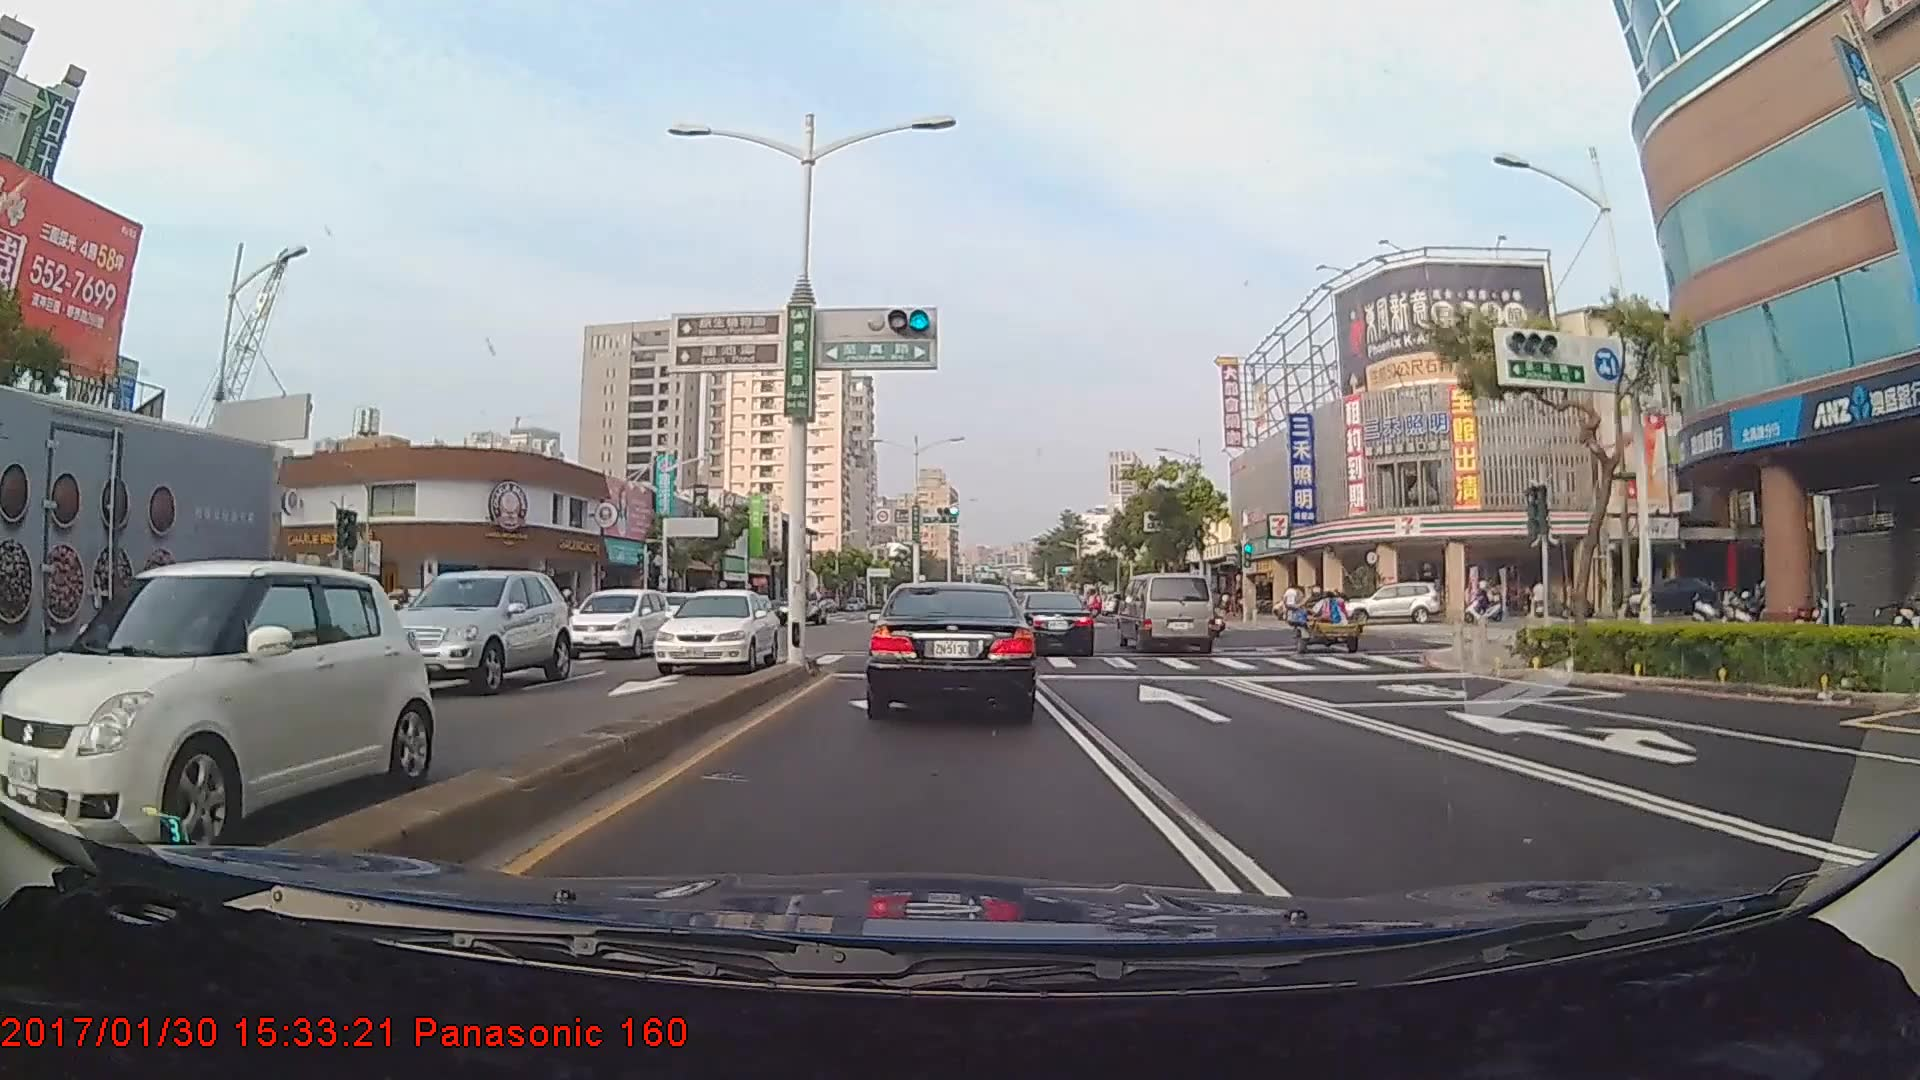vehicle: (0, 551, 422, 857), (0, 393, 269, 749), (357, 560, 563, 692), (869, 578, 1034, 720), (642, 583, 785, 676), (556, 583, 669, 659), (1121, 571, 1218, 655), (1015, 593, 1095, 655), (1356, 580, 1444, 625)
